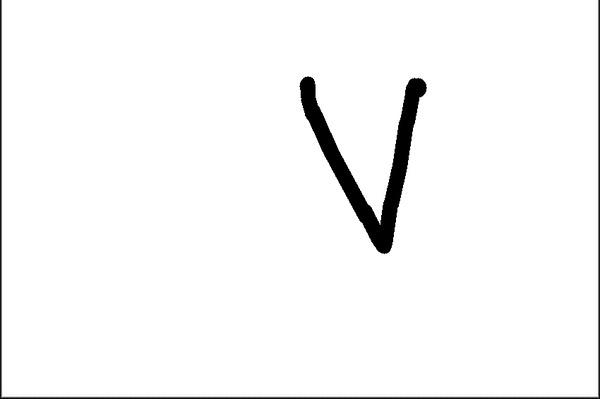V: (288, 72, 441, 256)
